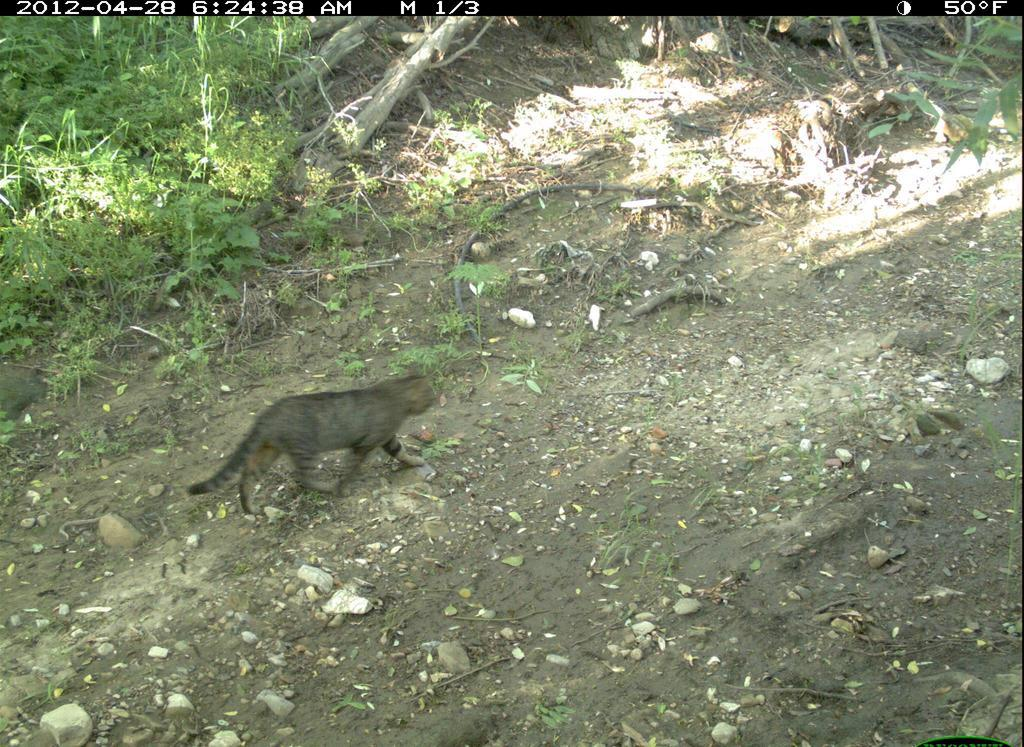cat: (182, 355, 450, 532)
